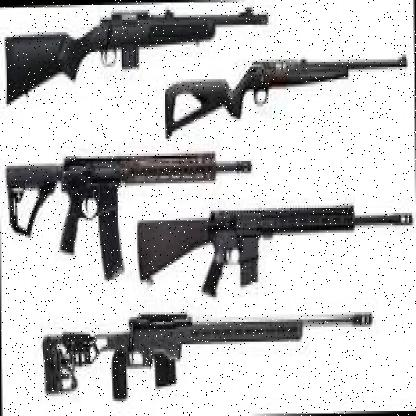rifle: (42, 304, 378, 406), (134, 195, 414, 298), (3, 4, 268, 74)
